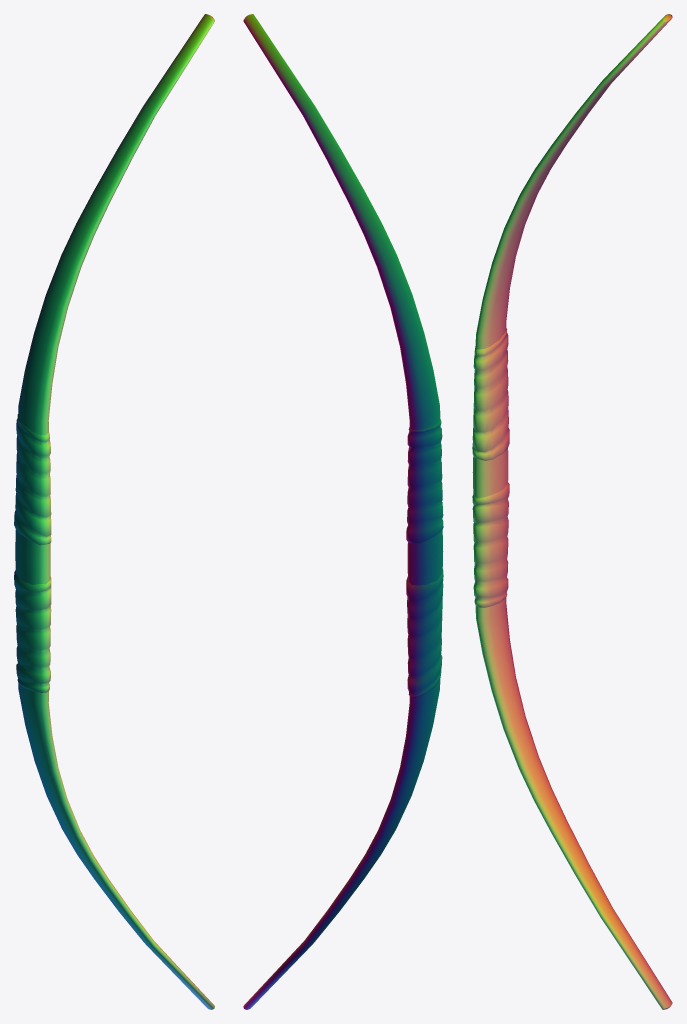
File: bowHULL.obj
The picture shows the model from 3 angles, left to right: view 1: azimuth 30°, elevation 25°; view 2: azimuth 150°, elevation 25°; view 3: azimuth 330°, elevation 25°; orthographic projection.
Parts seen in each view (by area): view 1: Cube_Cube.001; view 2: Cube_Cube.001; view 3: Cube_Cube.001.
Part boxes in pixels (bbox=[...]): Cube_Cube.001: bbox=[14, 14, 214, 1009]; Cube_Cube.001: bbox=[243, 14, 443, 1009]; Cube_Cube.001: bbox=[472, 14, 672, 1009].
Size of the model in its own units: 0.2927 by 1.44 by 0.0755.
